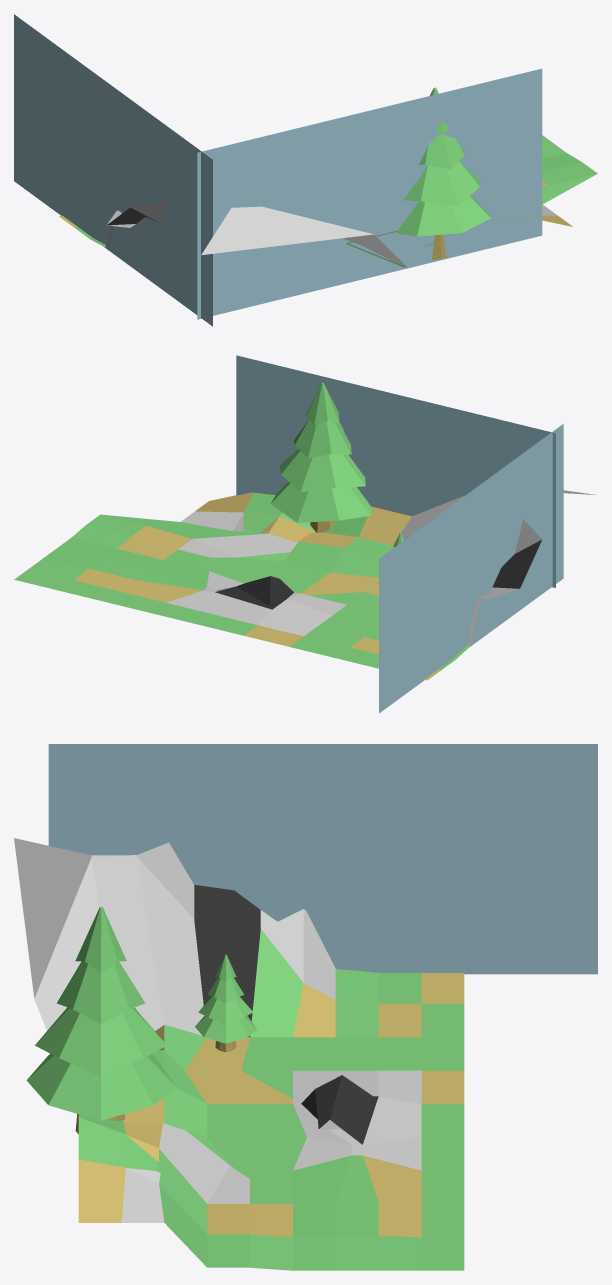
File: terrain1.fbx
3 views of the same model, one above another, from view 1: azimuth 30°, elevation 25°; view 2: azimuth 150°, elevation 25°; view 3: azimuth 270°, elevation 25° (orthographic). The views are drawn at different scales.
Visible parts, largest first — view 1: Plane.001, Plane.002, Grid, Cylinder.008; view 2: Grid, Plane.002, Plane.001, Cylinder.008; view 3: Grid, Plane.002, Cylinder.008, Cylinder.007.
Boxes of the visible parts, x1,y1,x2,y2 form: Plane.001: (197,68,542,319); Plane.002: (14,14,212,326); Grid: (59,135,597,267); Cylinder.008: (396,87,490,259); Grid: (14,490,595,680); Plane.002: (379,424,563,713); Plane.001: (236,355,555,587); Cylinder.008: (270,382,371,532); Grid: (14,838,464,1270); Plane.002: (48,744,597,974); Cylinder.008: (26,906,177,1133); Cylinder.007: (195,954,257,1052).
Size of the model in its own units: 8317 by 2825 by 6456.
